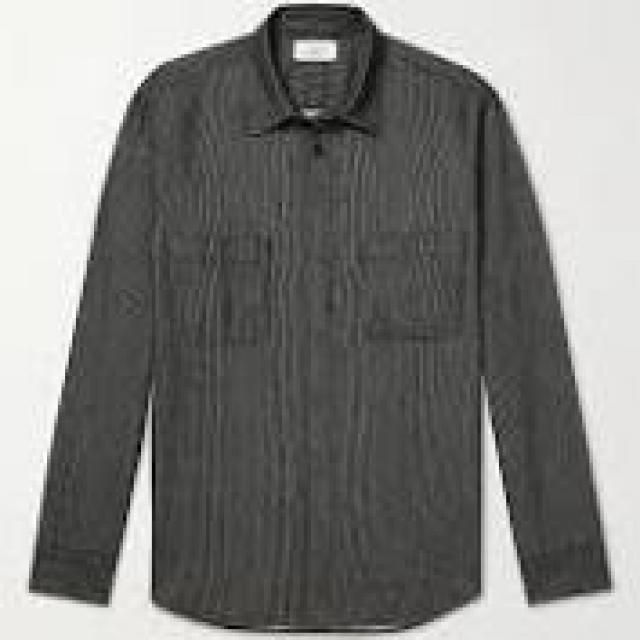plain: (29, 10, 611, 637)
